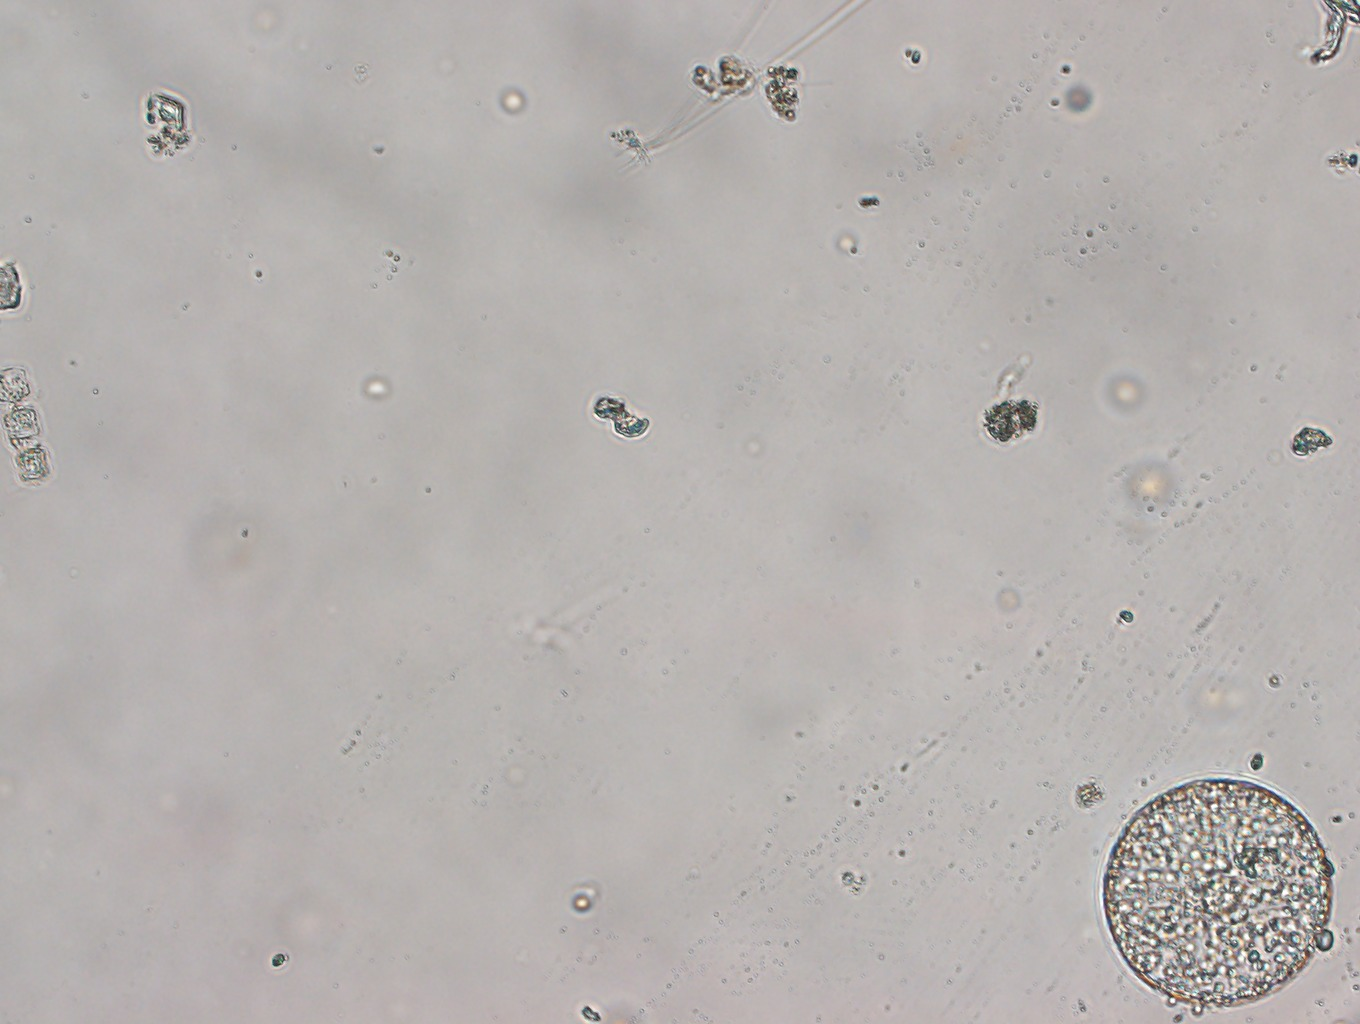coscinodiscus: (1096, 770, 1345, 1013)
